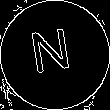N_S: (31, 27, 79, 83)
